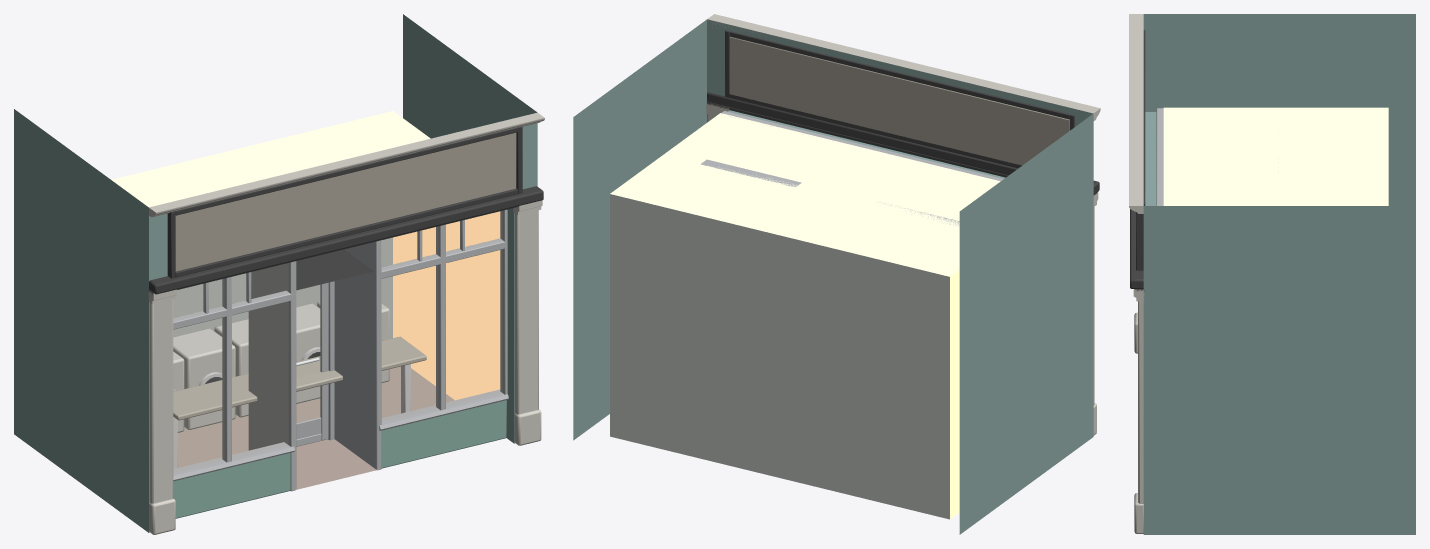
File: shop_lit_5a.glb
3 renders of one model, left to right at view 1: azimuth 30°, elevation 25°; view 2: azimuth 150°, elevation 25°; view 3: azimuth 270°, elevation 25°, orthographic.
Parts seen in each view (by area): view 1: shop_lit_5a; view 2: shop_lit_5a; view 3: shop_lit_5a.
Boxes of the visible parts, x1,y1,x2,y2 form: shop_lit_5a: (14,14,544,534); shop_lit_5a: (573,14,1100,534); shop_lit_5a: (1129,14,1415,534).
Bounding box in the file's own units: 5 × 4 × 3.16.
